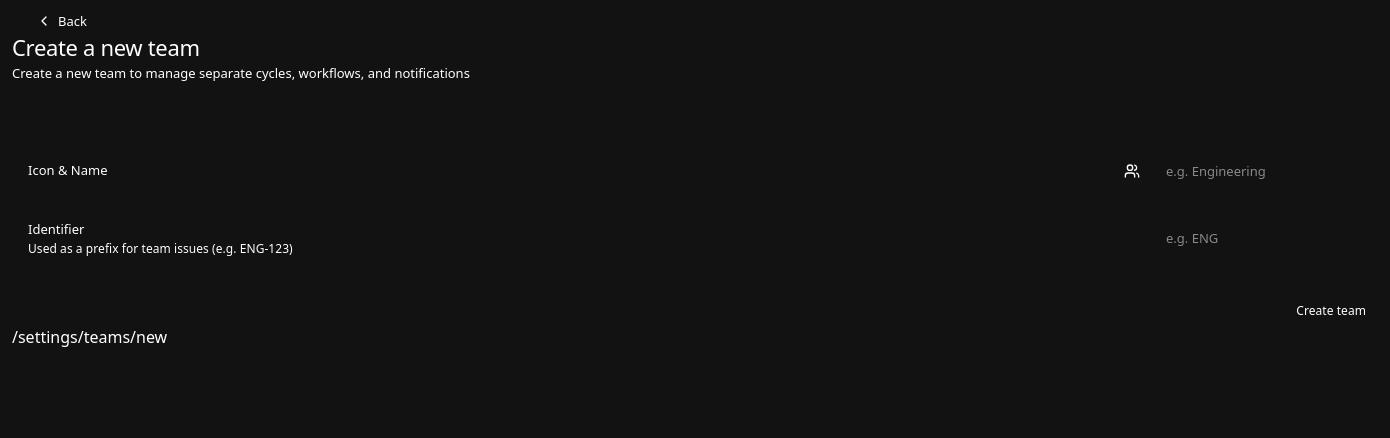
Test: TeamCreatePage › outro erro mostra o toast Could not create team
Type "Platform" into the field labelled "Icon & Name". click: {"x": 1258, "y": 171}
box: [1154,155,1362,187]
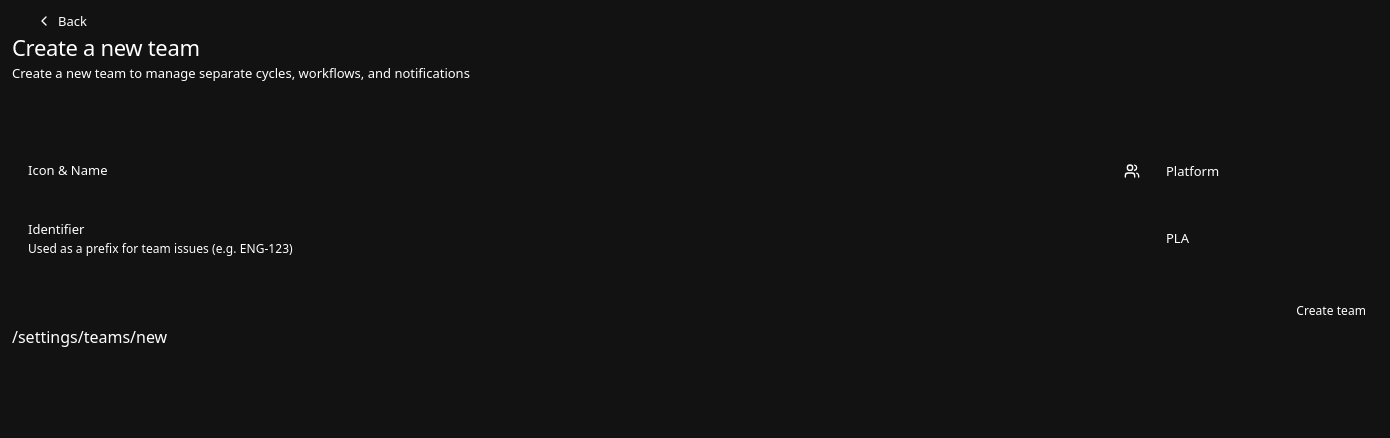
Click the button "Create team". click: {"x": 1331, "y": 311}
box: [1284,297,1378,325]
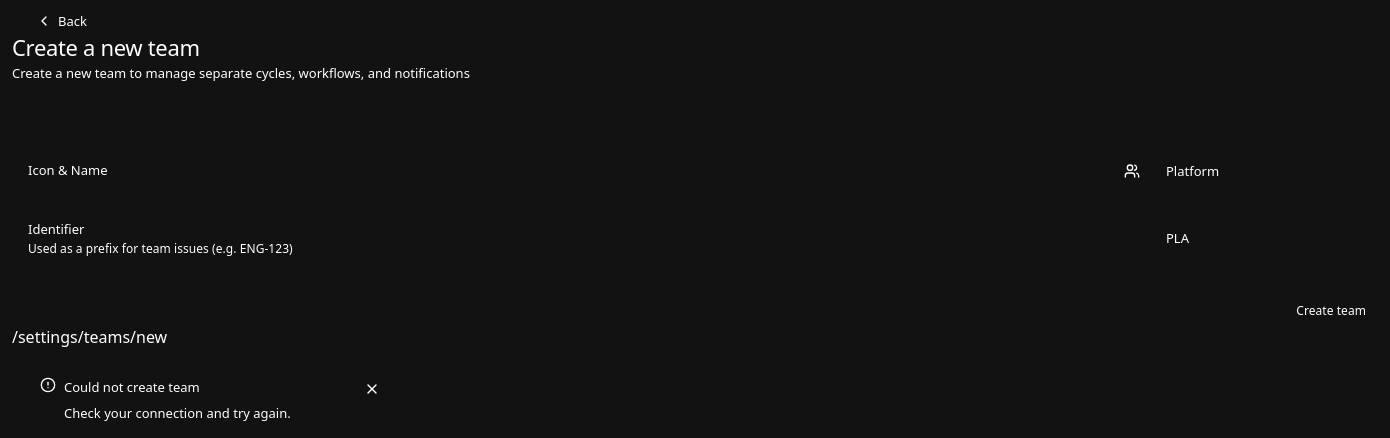
Expected: the text named "Current URL" reads "/settings/teams/new", [12,326,167,348]
Expected: the text "Could not create team" is shown, [64,378,200,396]
